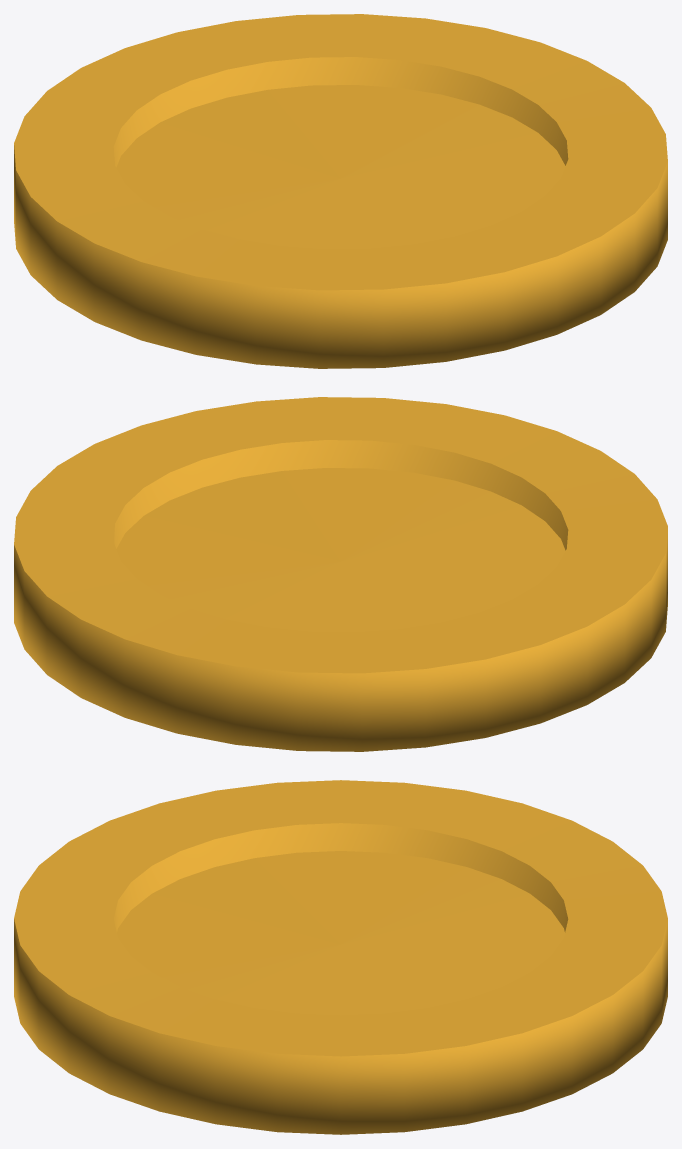
Rendered from moeda.glb.
3 renders of one model, top to bottom at view 1: azimuth 30°, elevation 25°; view 2: azimuth 150°, elevation 25°; view 3: azimuth 270°, elevation 25°, orthographic.
Visible parts, largest first — view 1: coin.023; view 2: coin.023; view 3: coin.023.
Boxes of the visible parts, x1=… form: coin.023: x1=14, y1=14, x2=667, y2=368; coin.023: x1=14, y1=397, x2=667, y2=751; coin.023: x1=14, y1=780, x2=667, y2=1134.
Bounding box in the file's own units: 0.4657 × 0.0615 × 0.4657.
